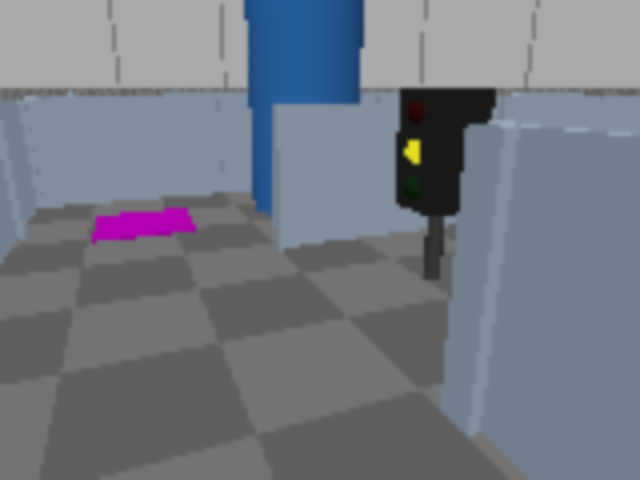goal_zone: (92, 208, 198, 243)
traffic_light: (391, 76, 498, 292)
